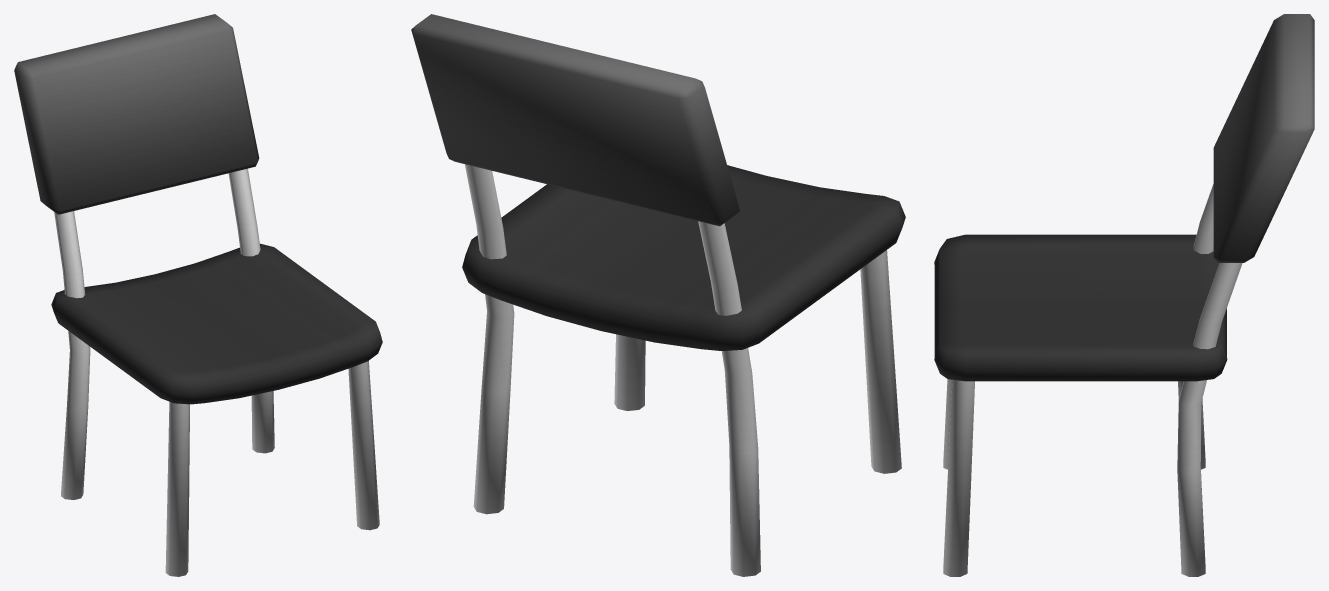
Rendered from SM_Chair_13.fbx.
The picture shows the model from 3 angles, left to right: view 1: azimuth 30°, elevation 25°; view 2: azimuth 150°, elevation 25°; view 3: azimuth 270°, elevation 25°; orthographic projection. The views are drawn at different scales.
Visible parts, largest first — view 1: SM_Chair_13; view 2: SM_Chair_13; view 3: SM_Chair_13.
Part boxes in pixels (x1,y1,x2,y2): SM_Chair_13: (14,14,382,576); SM_Chair_13: (411,14,905,576); SM_Chair_13: (934,14,1314,576).
Bounding box in the file's own units: 63.1 × 107 × 81.94.
Materials: 1 (1 with a texture image).
